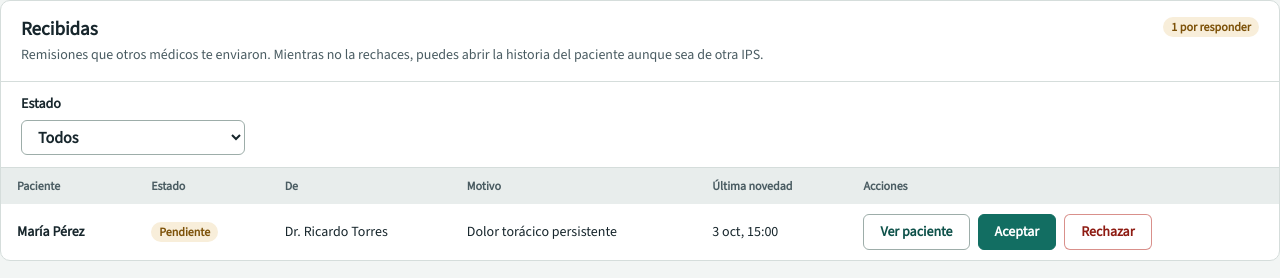
Test case: referrals screen, especialista › refreshes and says so when the referral changed under the screen (409)
Click the button "Aceptar": (1017, 232) [978,214,1056,250]
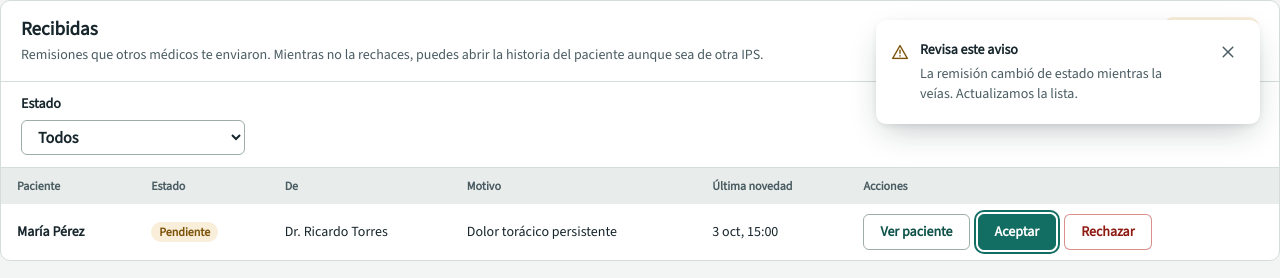
expect the text "La remisión cambió de estado mientras la veías. Actualizamos la lista." is shown: met, box [920,64,1196,104]
